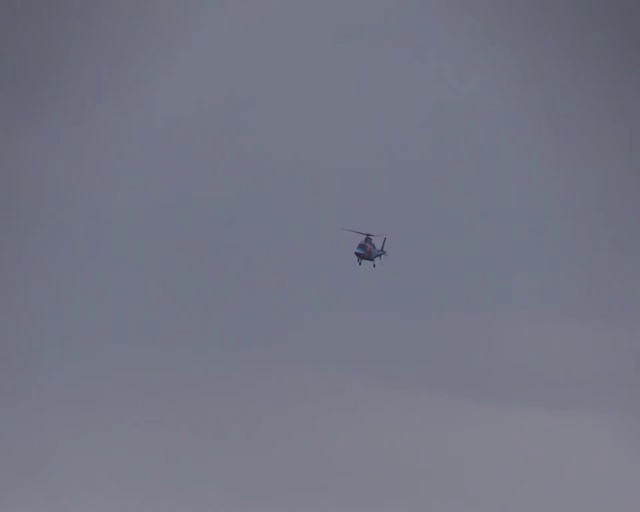HELICOPTER: (340, 227, 388, 268)
